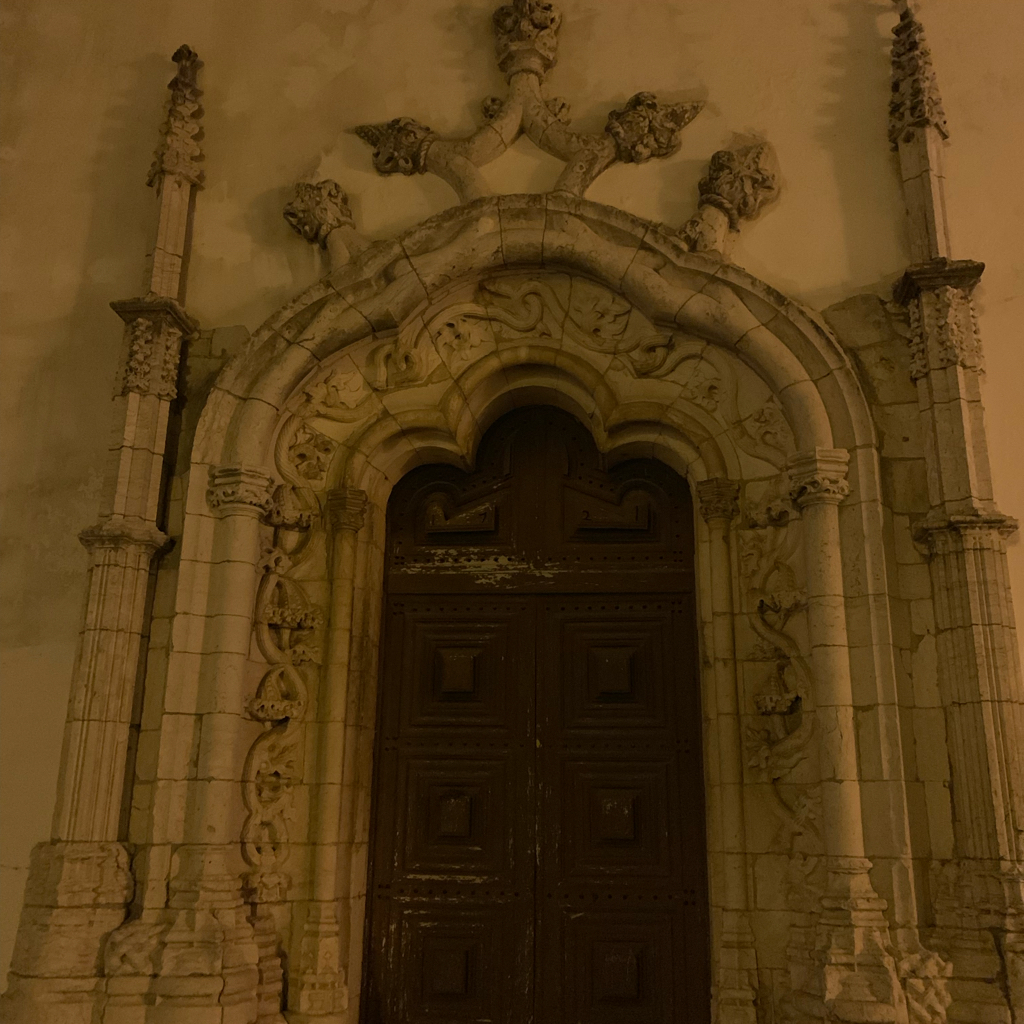arco-trilobulado: (334, 352, 769, 544)
pinaculo-gotico: (147, 28, 219, 206), (876, 1, 961, 150)
